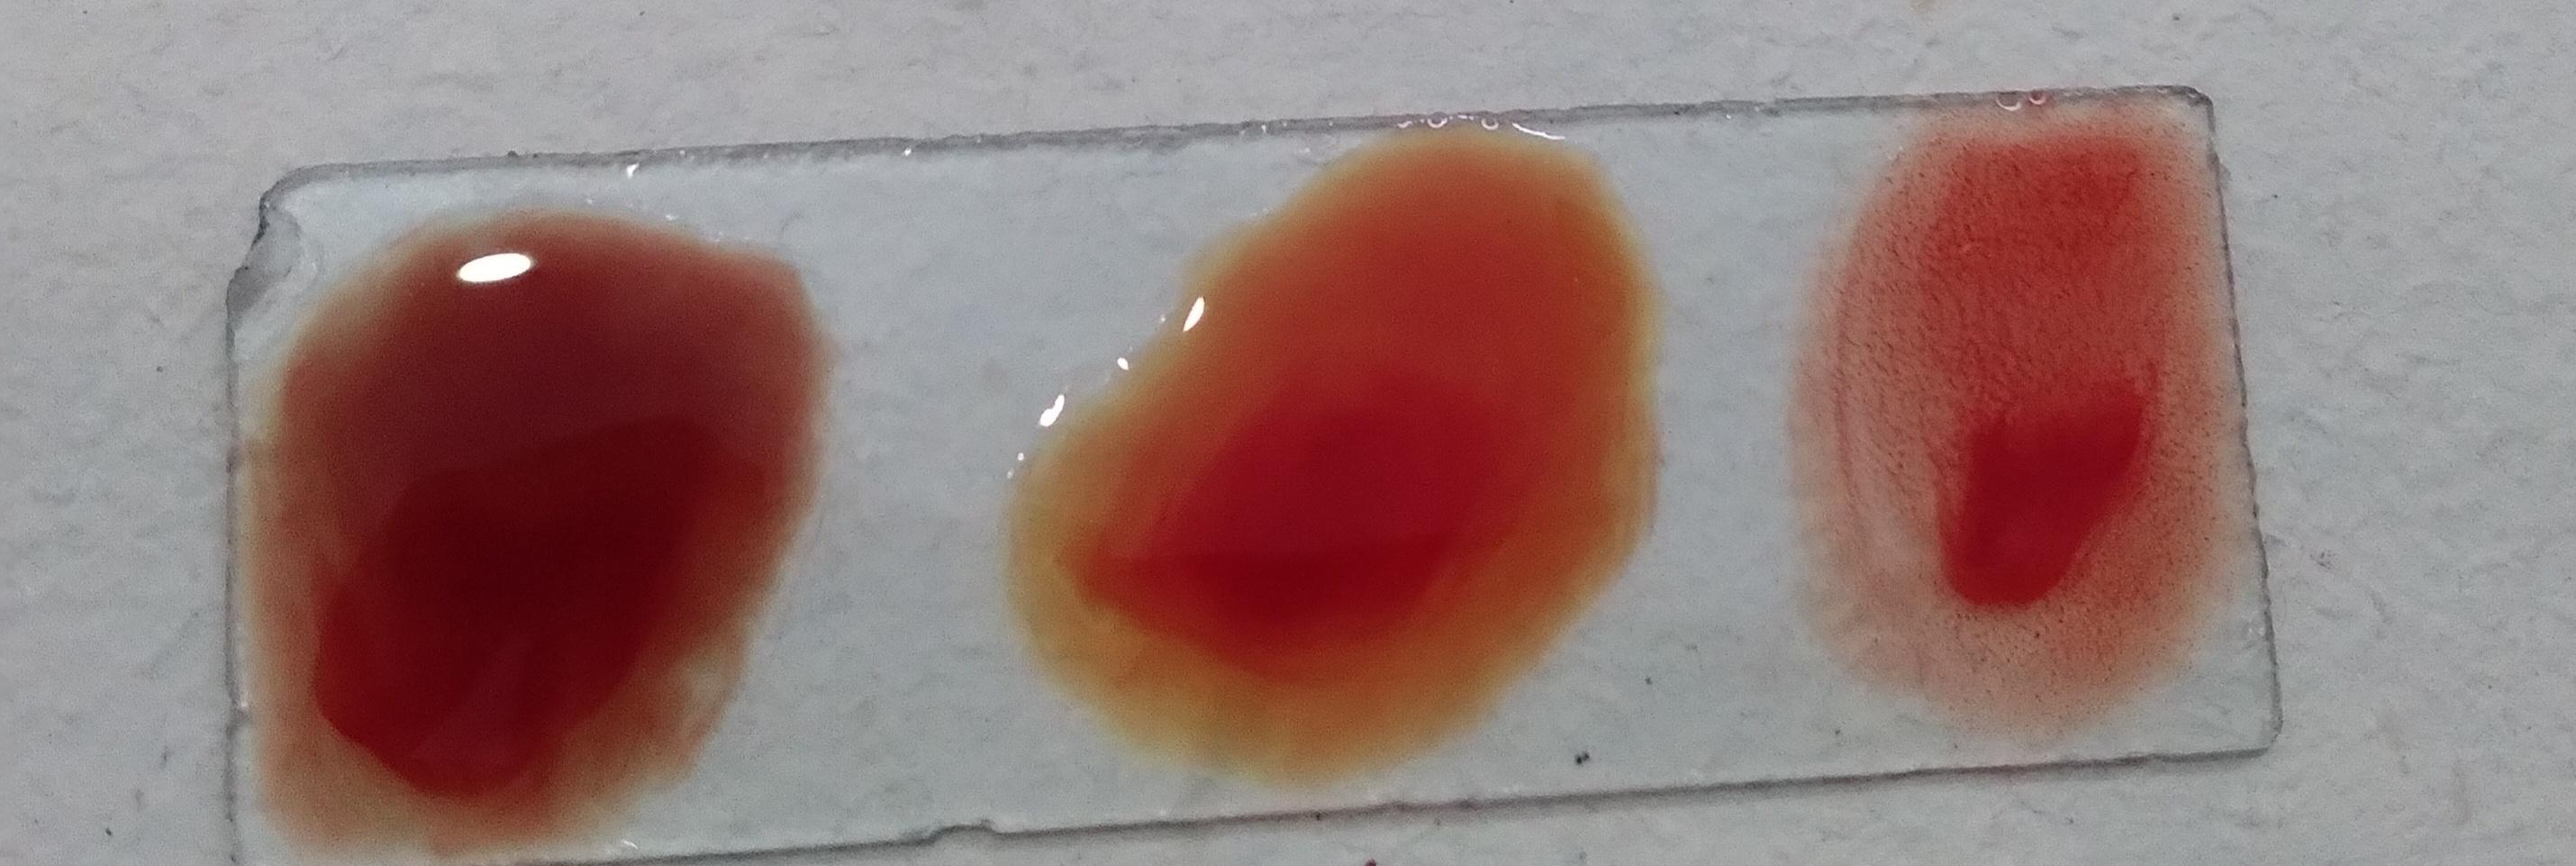D: (1842, 122, 2244, 710)
